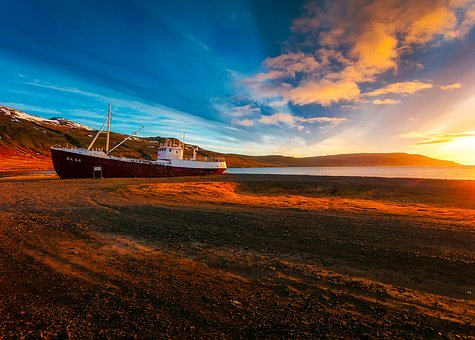ground: (19, 126, 475, 337)
sky: (5, 1, 475, 147)
